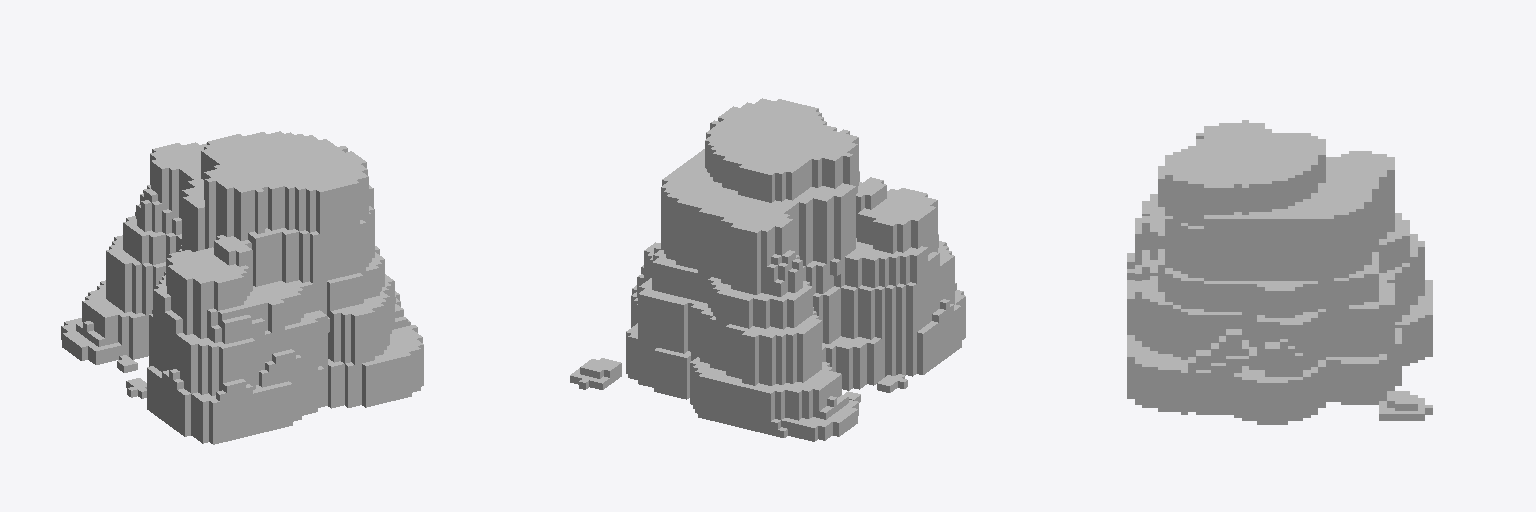
The model's file is rocks.obj.
3 renders of one model, left to right at view 1: azimuth 30°, elevation 25°; view 2: azimuth 150°, elevation 25°; view 3: azimuth 270°, elevation 25°, orthographic.
Parts seen in each view (by area): view 1: object 1; view 2: object 1; view 3: object 1.
Boxes of the visible parts, x1=… form: object 1: x1=61, y1=131, x2=423, y2=444; object 1: x1=570, y1=98, x2=965, y2=441; object 1: x1=1127, y1=120, x2=1432, y2=424.
Size of the model in its own units: 4 by 3 by 4.